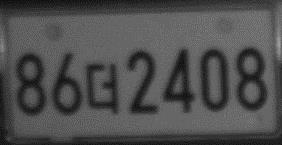0: (198, 48, 230, 110)
2: (125, 48, 160, 115)
4: (162, 49, 198, 114)
6: (49, 52, 85, 117)
8: (235, 47, 269, 110), (15, 52, 47, 117)
더: (85, 60, 121, 111)
